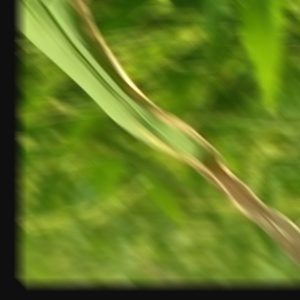Leaf_Blast: (128, 112, 216, 166)
